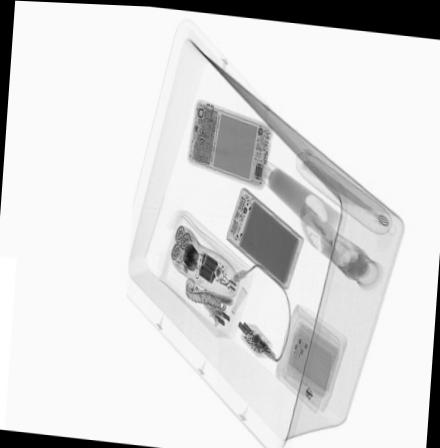Powerbank: (226, 180, 305, 288)
